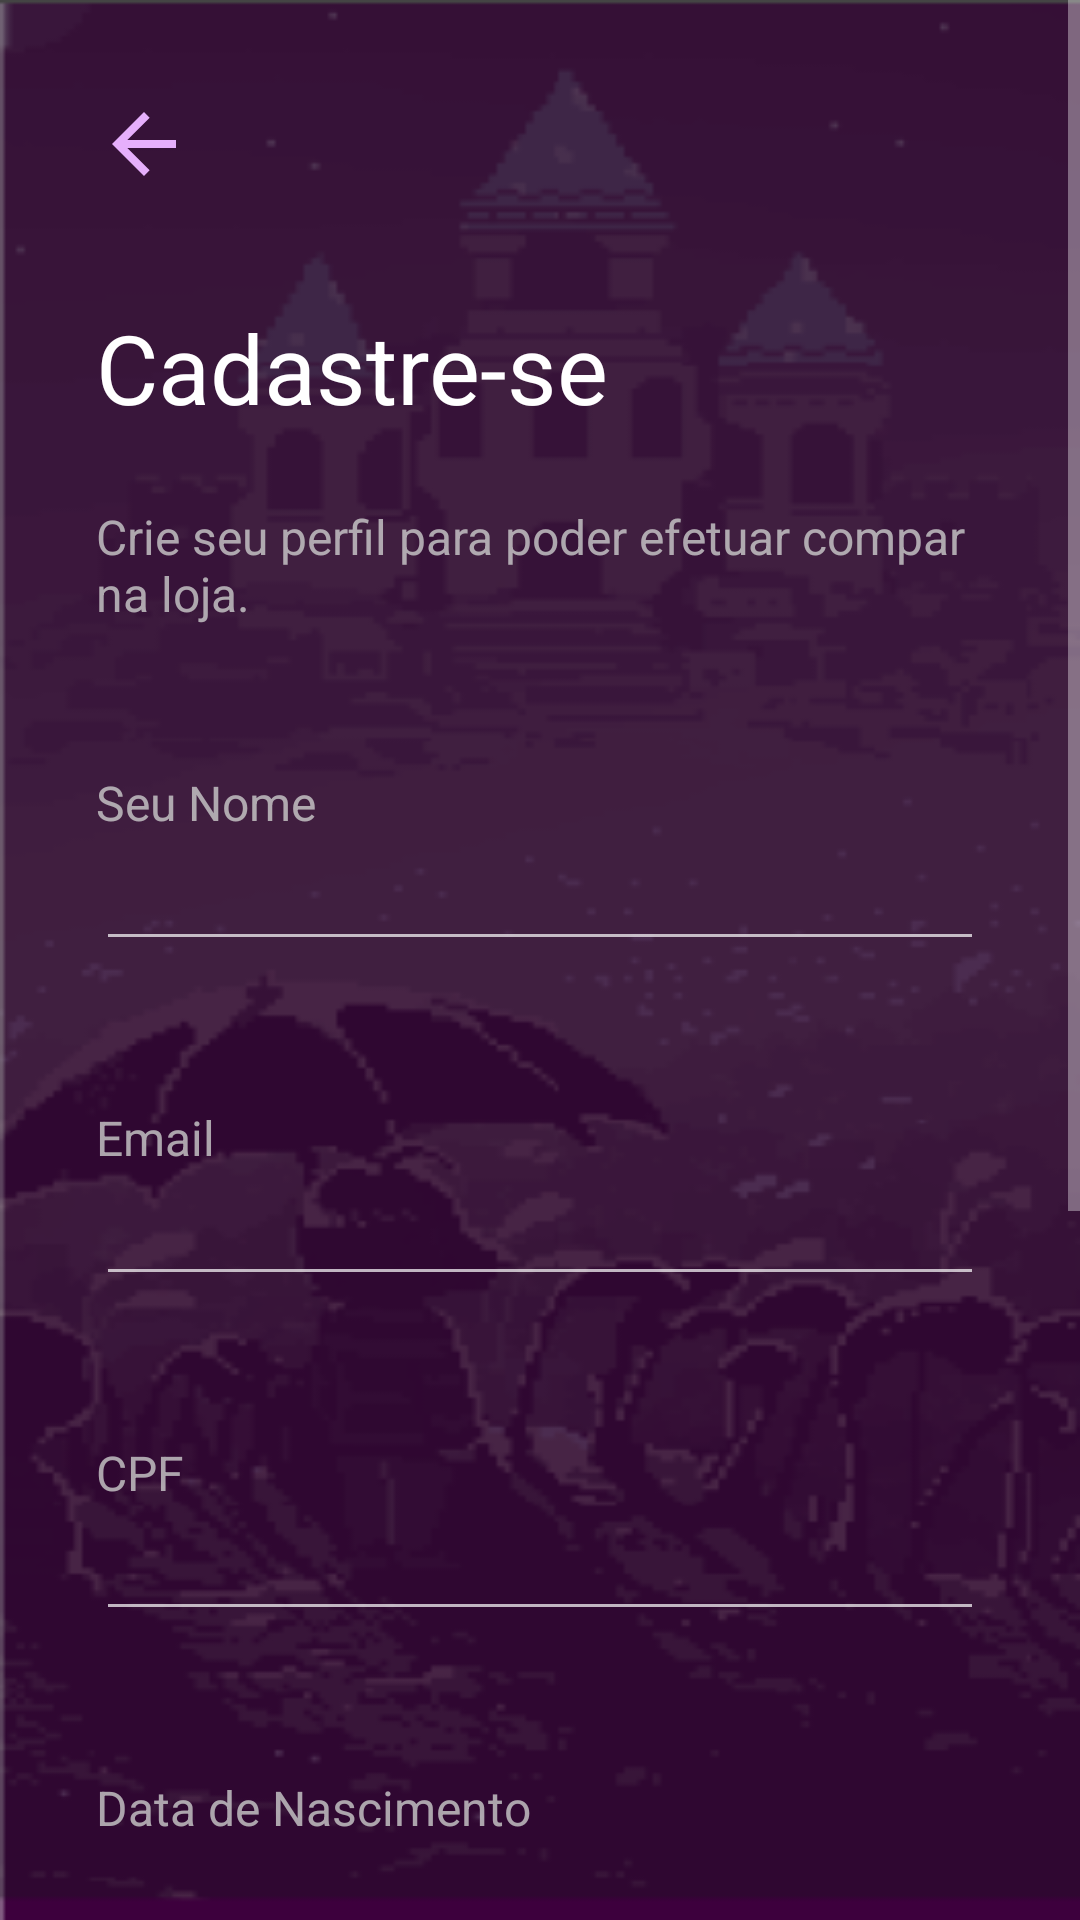

Screen size 1080px×1920px. Icon name, then its box in pixels as (x1, y1, x2, y2):
seta voltar: (112, 112, 176, 176)
